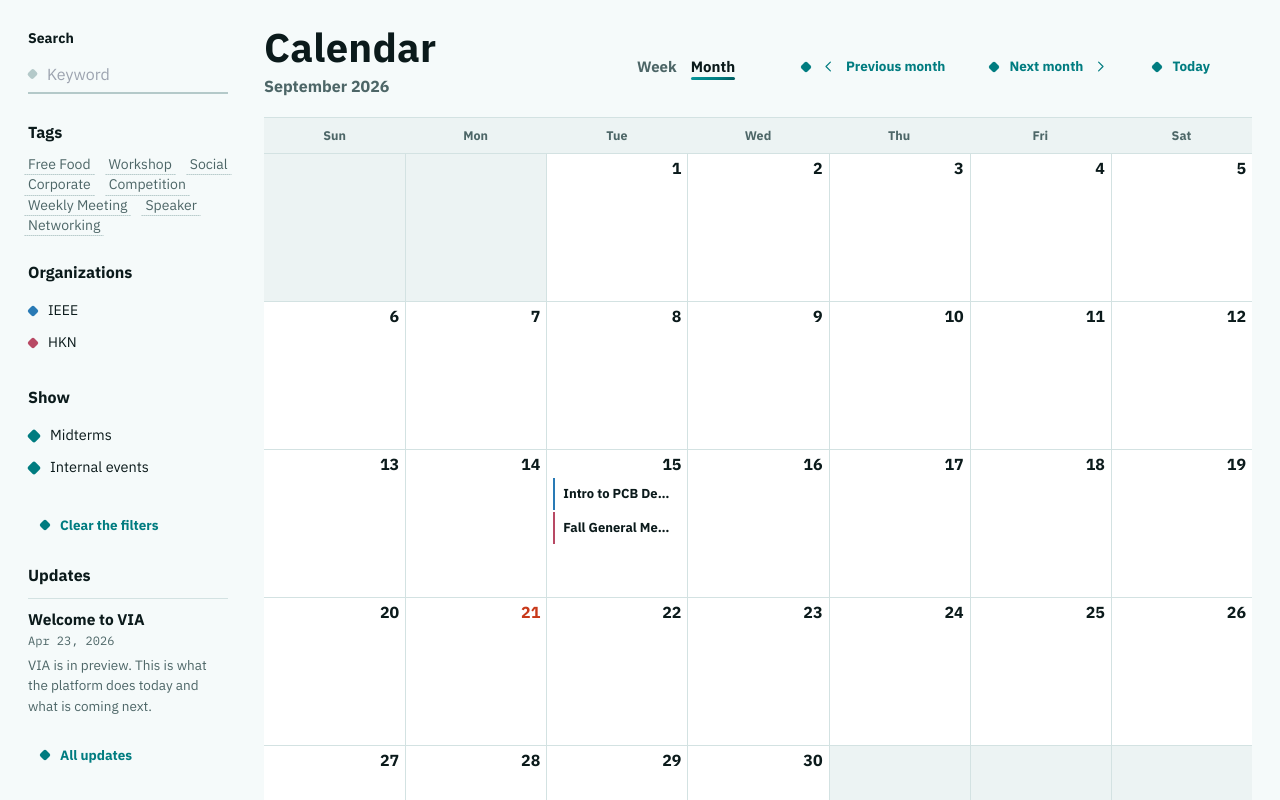
Test: Calendar filter rail › narrows the grid to the organizations that are chosen
Click the button "HKN". click: {"x": 128, "y": 343}
box: [28,327,228,359]
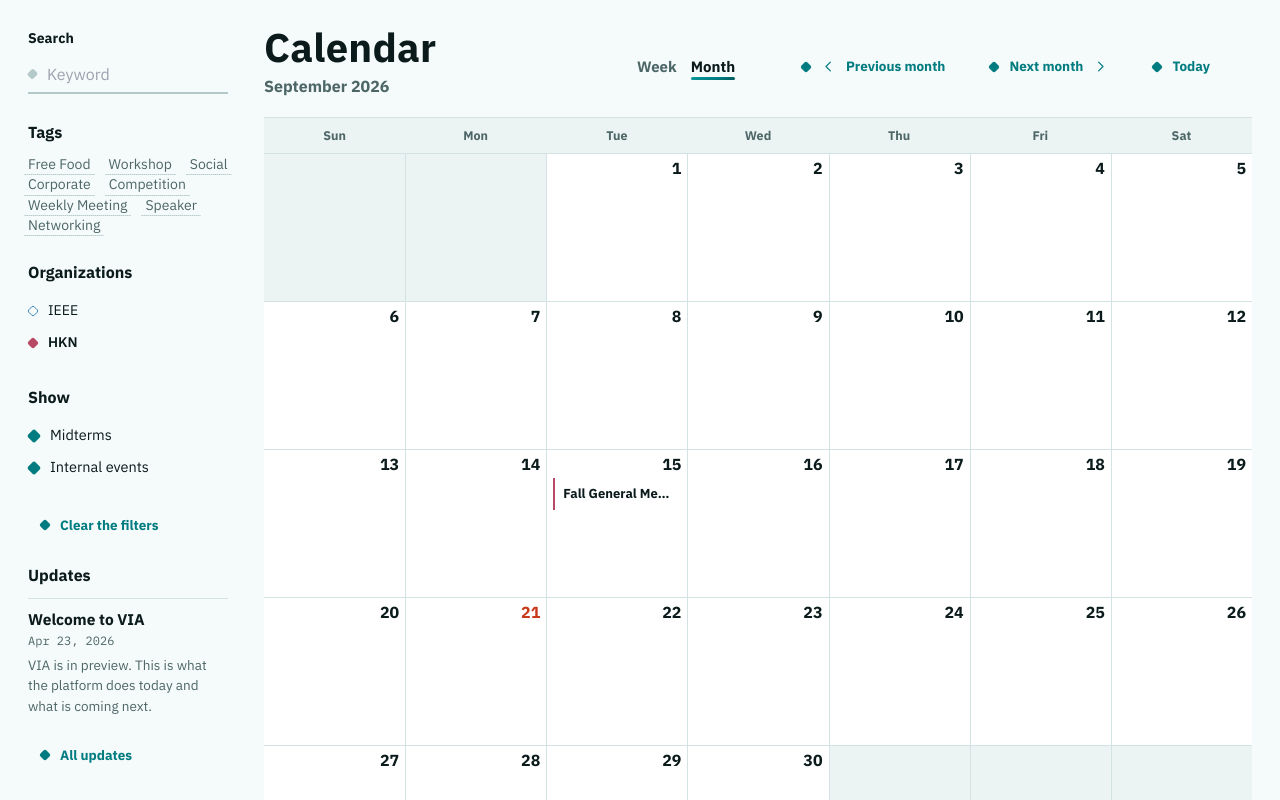
Check: the text "Fall General Meeting" is shown, box [563,486,675,502]
Check: the button "Intro to PCB Design Workshop" is gone
